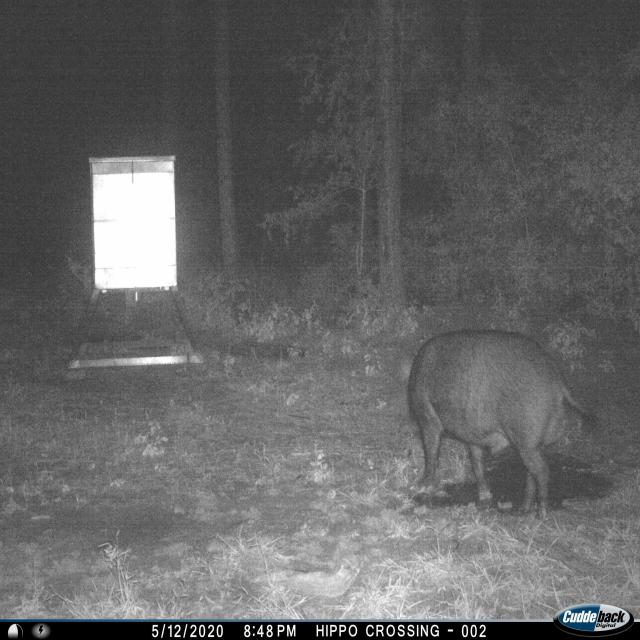wild boar: (404, 325, 589, 523)
